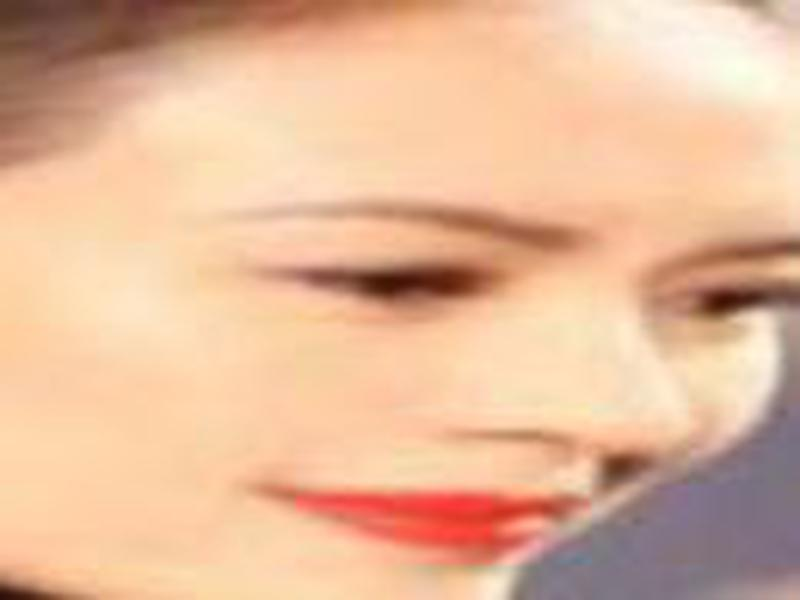without_mask: (6, 12, 800, 600)
